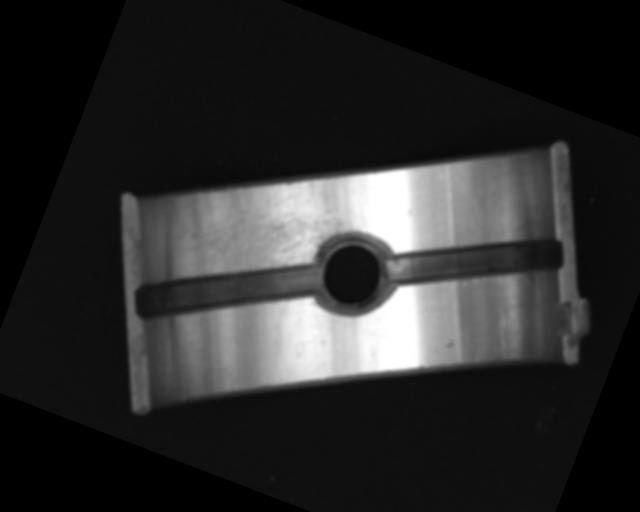bruise: (442, 337, 456, 350)
gap: (132, 213, 321, 371), (382, 187, 567, 335)
hole: (304, 221, 402, 325)
nick: (484, 306, 523, 358)
scratch: (171, 135, 369, 323)
